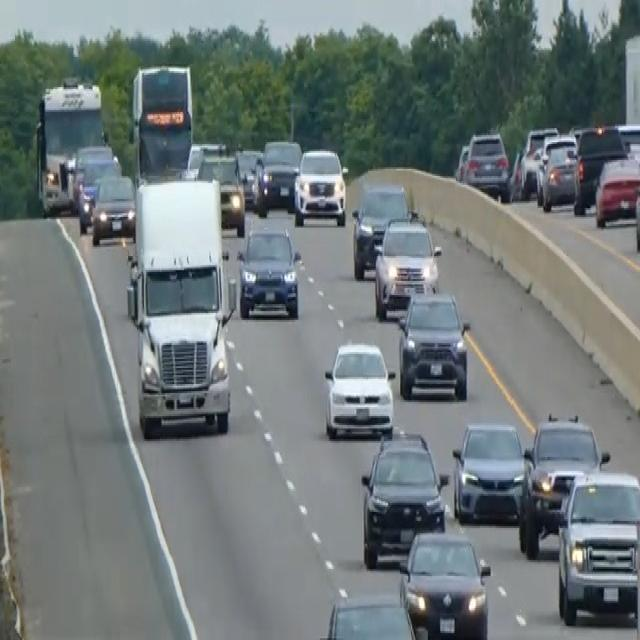bus: (33, 75, 107, 215), (127, 61, 194, 183)
car: (518, 411, 609, 558), (556, 468, 639, 626), (359, 427, 448, 567), (398, 526, 491, 638), (397, 288, 470, 400), (451, 418, 527, 524), (323, 338, 395, 439), (373, 214, 441, 318), (236, 224, 301, 320), (351, 180, 409, 279), (316, 590, 422, 638), (572, 123, 627, 213), (293, 146, 347, 228), (196, 149, 245, 235), (253, 137, 302, 213), (77, 153, 121, 233), (594, 151, 639, 228), (66, 140, 114, 210), (464, 128, 510, 201), (90, 172, 136, 245), (536, 132, 579, 210), (518, 125, 558, 198), (184, 138, 226, 180), (235, 146, 262, 206), (616, 121, 639, 165), (633, 158, 639, 258)
lorry: (125, 174, 236, 439)
